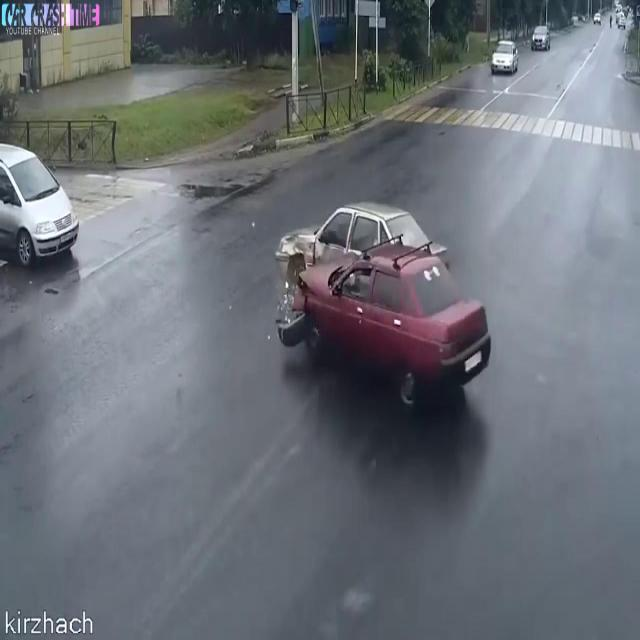accident: (260, 186, 497, 441)
